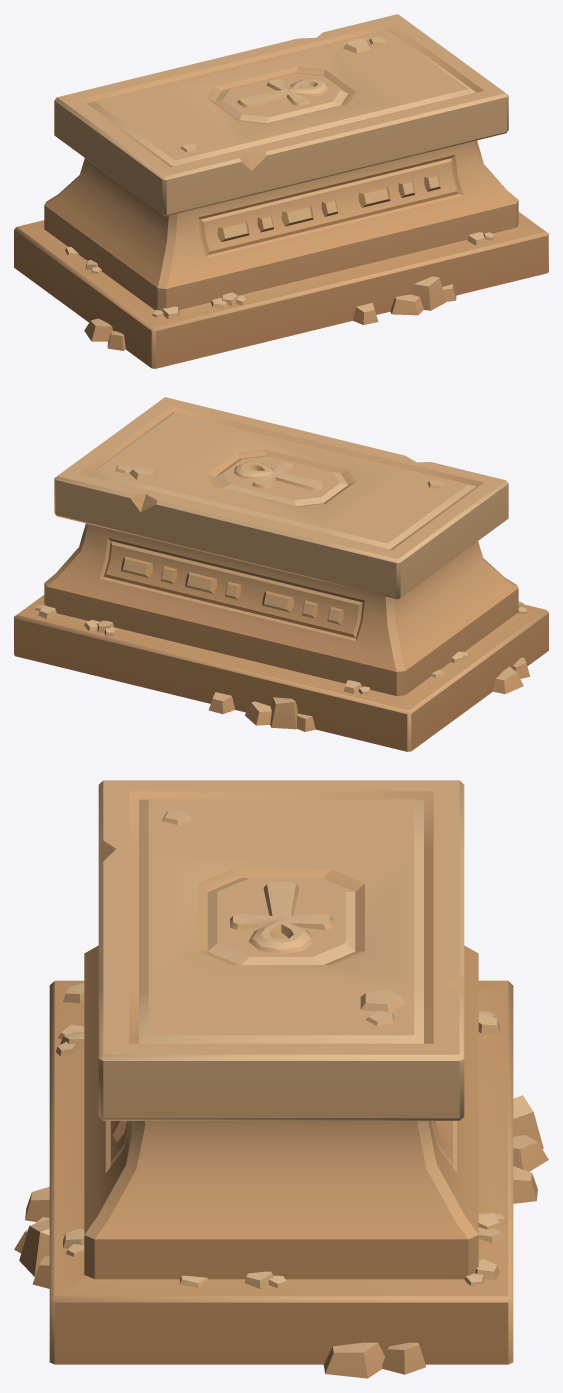
File: sarcophagus.gltf
3 views of the same model, one above another, from view 1: azimuth 30°, elevation 25°; view 2: azimuth 150°, elevation 25°; view 3: azimuth 270°, elevation 25° (orthographic). The views are drawn at different scales.
Visible parts, largest first — view 1: sarcophagus, sarcophagus_lid; view 2: sarcophagus, sarcophagus_lid; view 3: sarcophagus, sarcophagus_lid.
Part boxes in pixels (box(x1,y1,x2,y2)): sarcophagus: box(14, 140, 548, 368); sarcophagus_lid: box(54, 14, 508, 216); sarcophagus: box(14, 523, 548, 751); sarcophagus_lid: box(54, 397, 508, 599); sarcophagus: box(14, 945, 548, 1378); sarcophagus_lid: box(98, 780, 464, 1120).
Bounding box in the file's own units: 3.37 × 1.33 × 2.19.
Materials: 1 (1 with a texture image).
